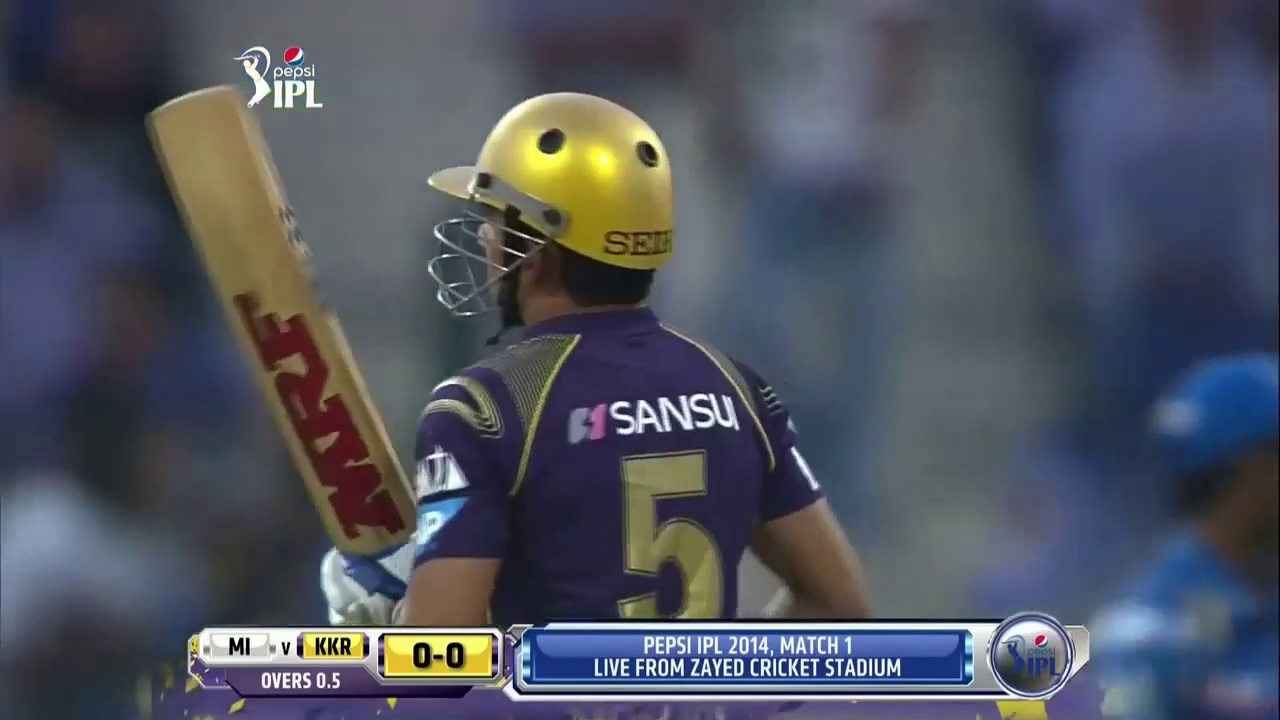bat: (143, 108, 417, 498)
